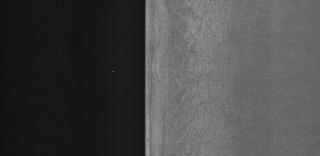silk spot: (170, 9, 230, 146)
